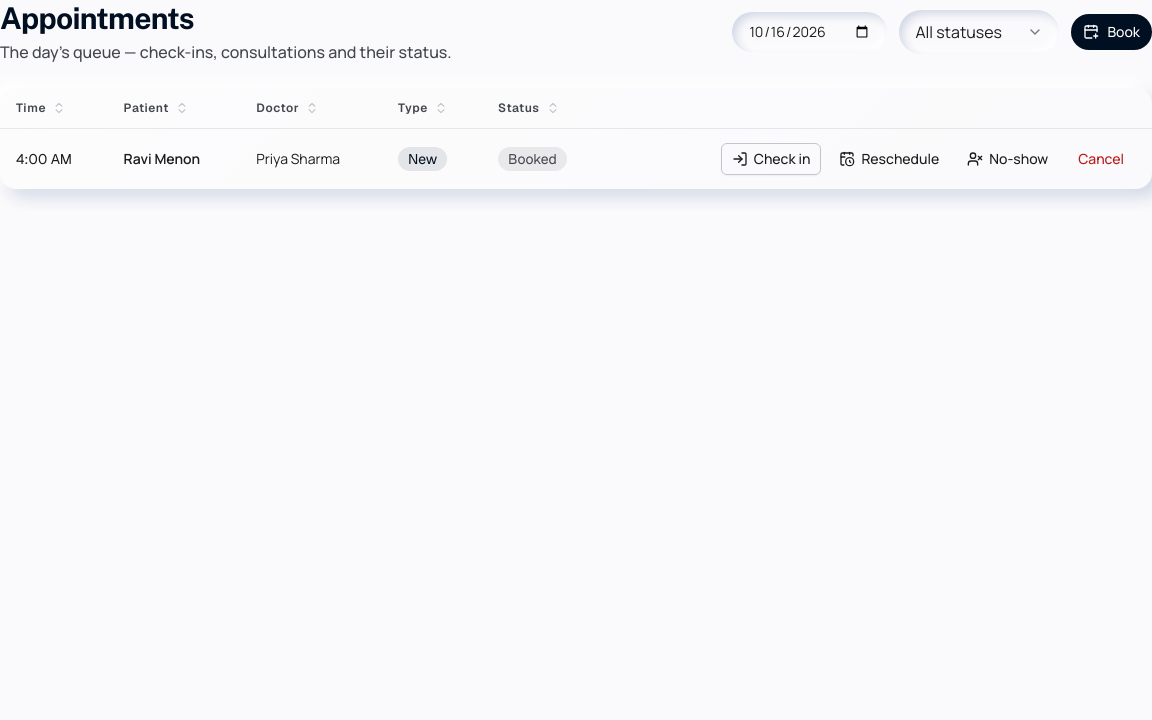
Test: the reschedule dialog › shows the current and new times and saves only once confirmed
This screenshot has width=1152, height=720.
Click the button "Reschedule" at [889, 159], box [829,143,949,175]
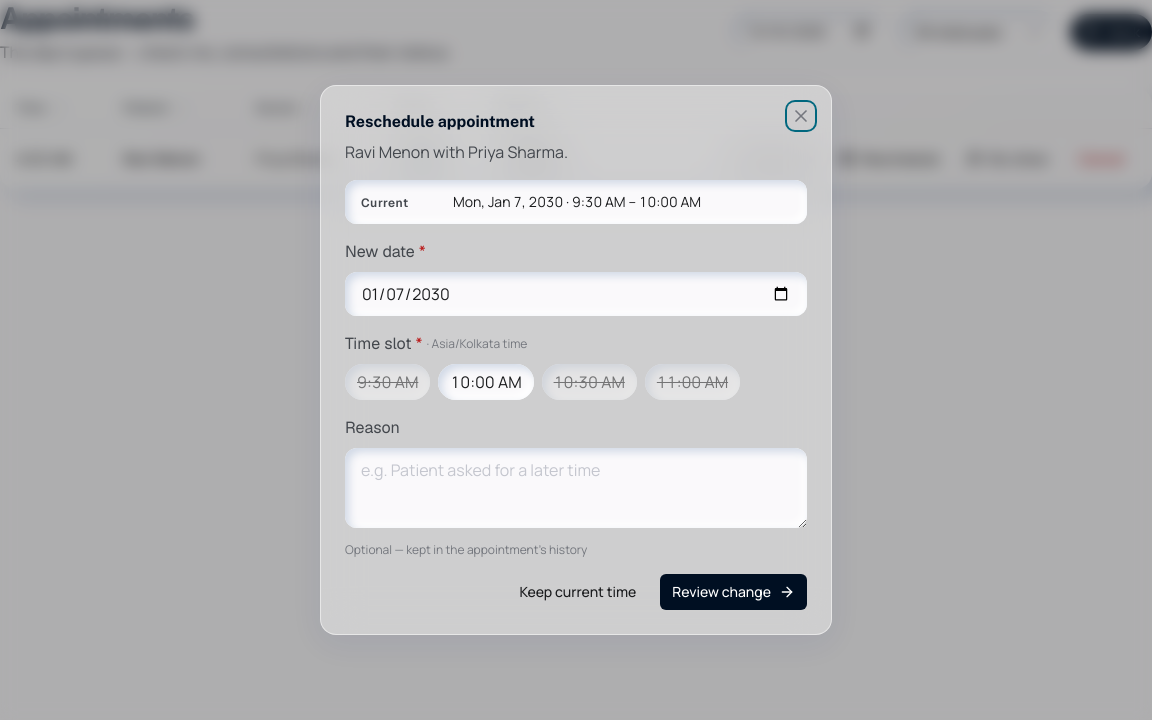
Check: the element named "Time slots" is shown, box [345,332,807,400]
Click the button "10:00 AM" at [486, 382], box [438,364,534,400]
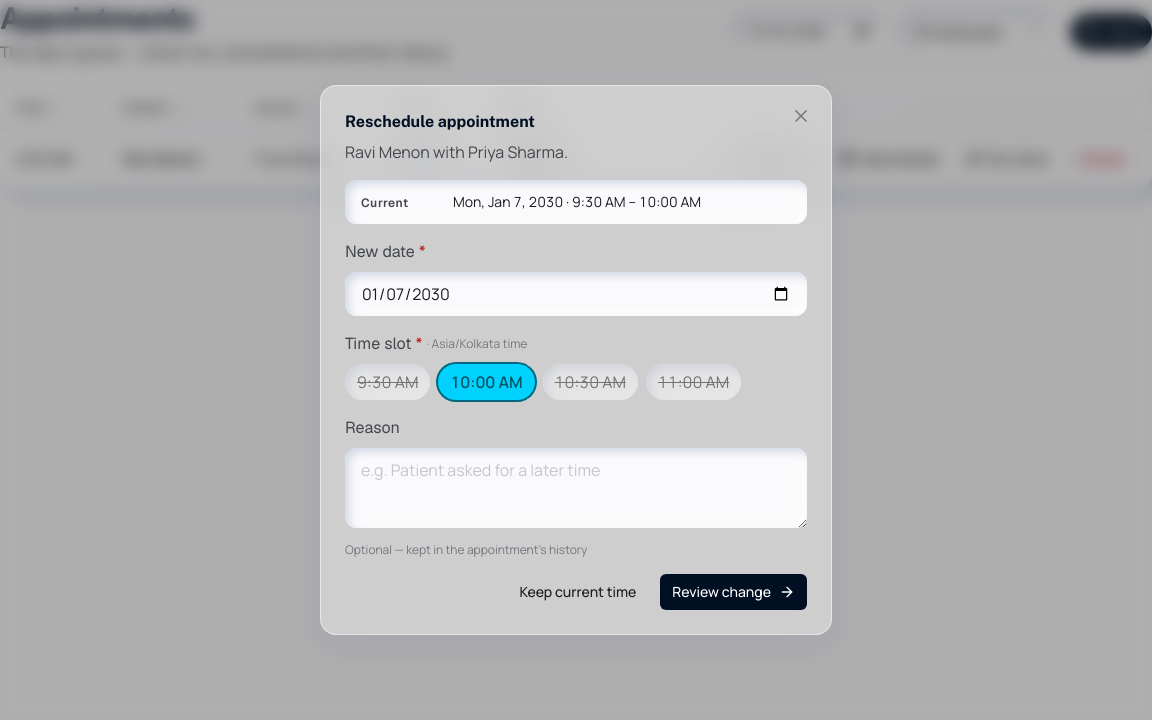
Check: the button "10:00 AM" is pressed, box [438,364,535,400]
Click the button "Review change" at [734, 592], box [660,574,807,610]
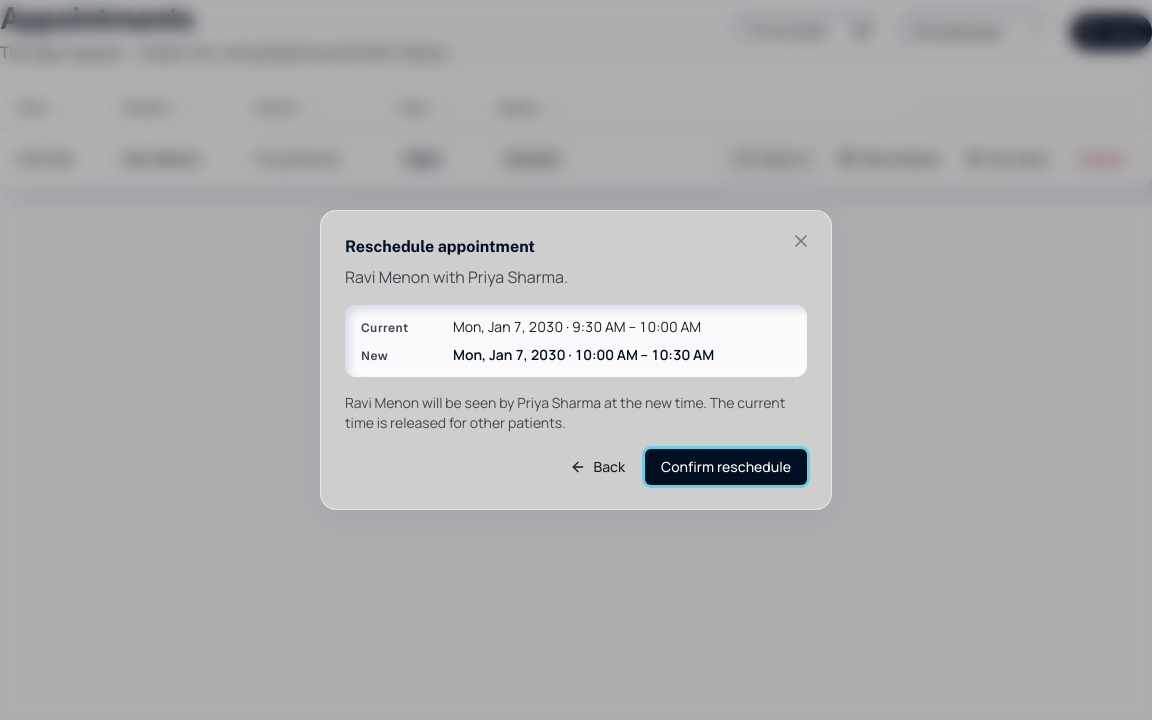
Check: the text "Mon, Jan 7, 2030 · 9:30 AM – 10:00 AM" is shown, box [453,317,701,337]
Check: the text "Mon, Jan 7, 2030 · 10:00 AM – 10:30 AM" is shown, box [453,345,714,365]
Click the button "Confirm reschedule" at [726, 467], box [645,449,807,485]
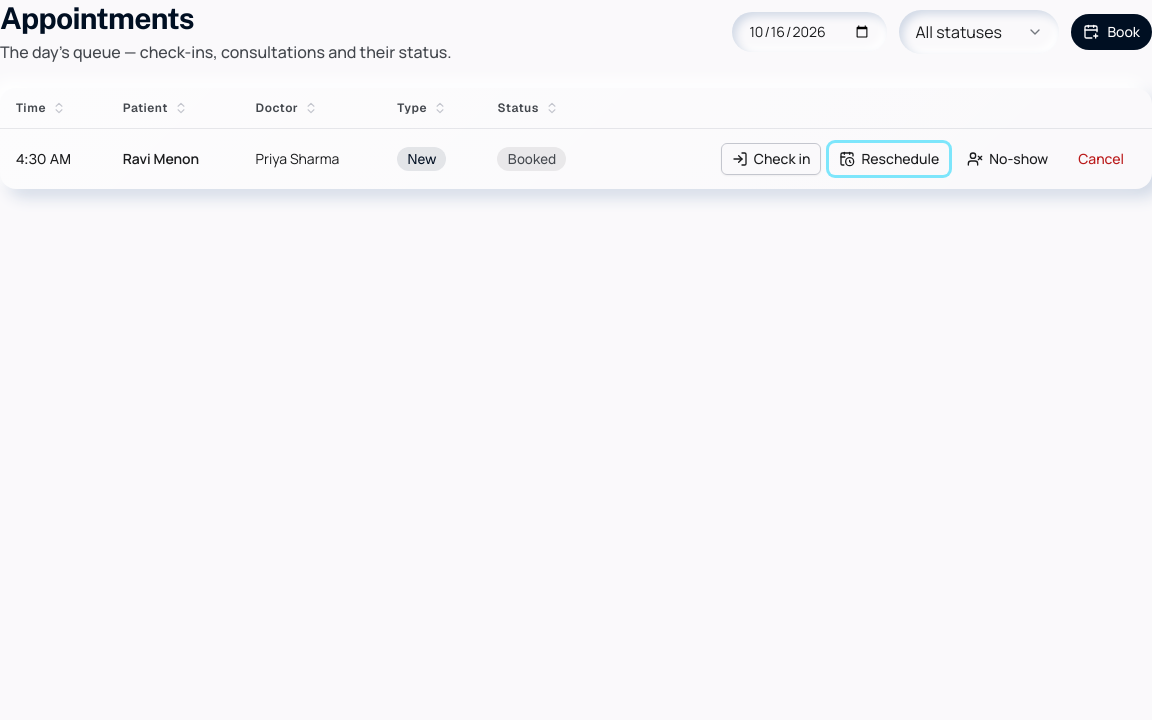
Check: the dialog is gone
